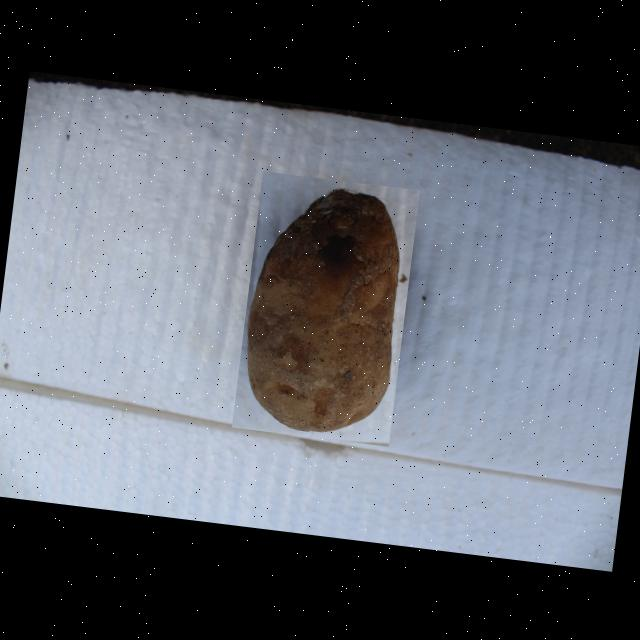Diseased-fungal potato: (231, 170, 418, 445)
